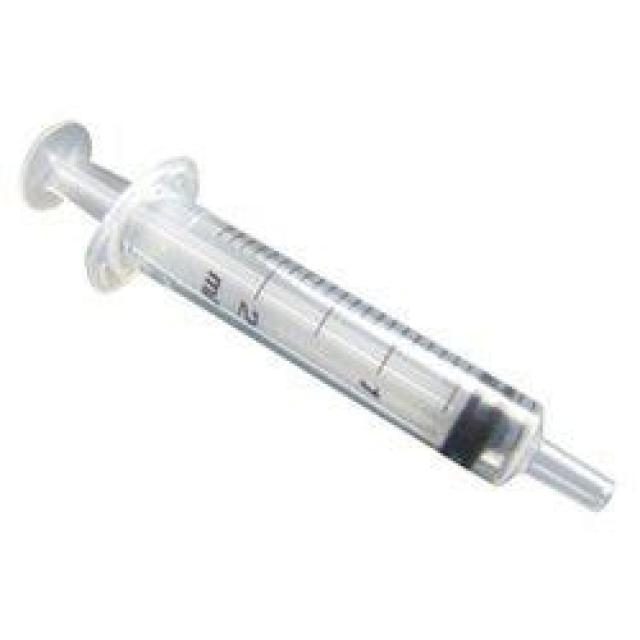B3: (16, 118, 614, 507)
